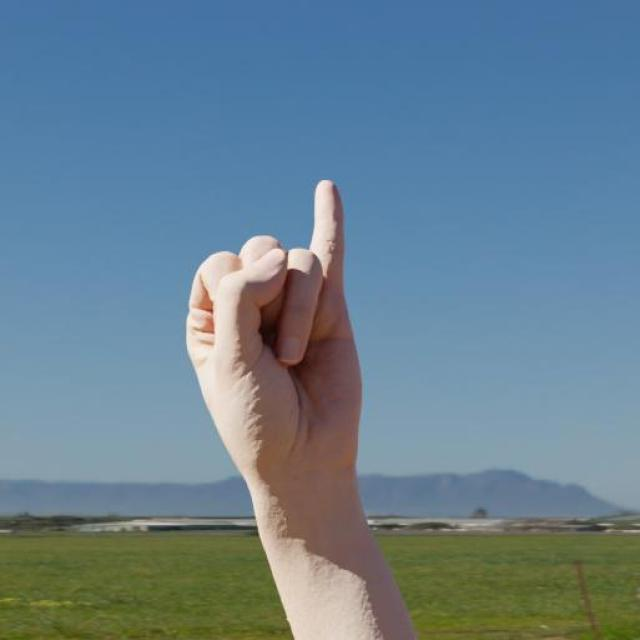I: (177, 169, 369, 487)
